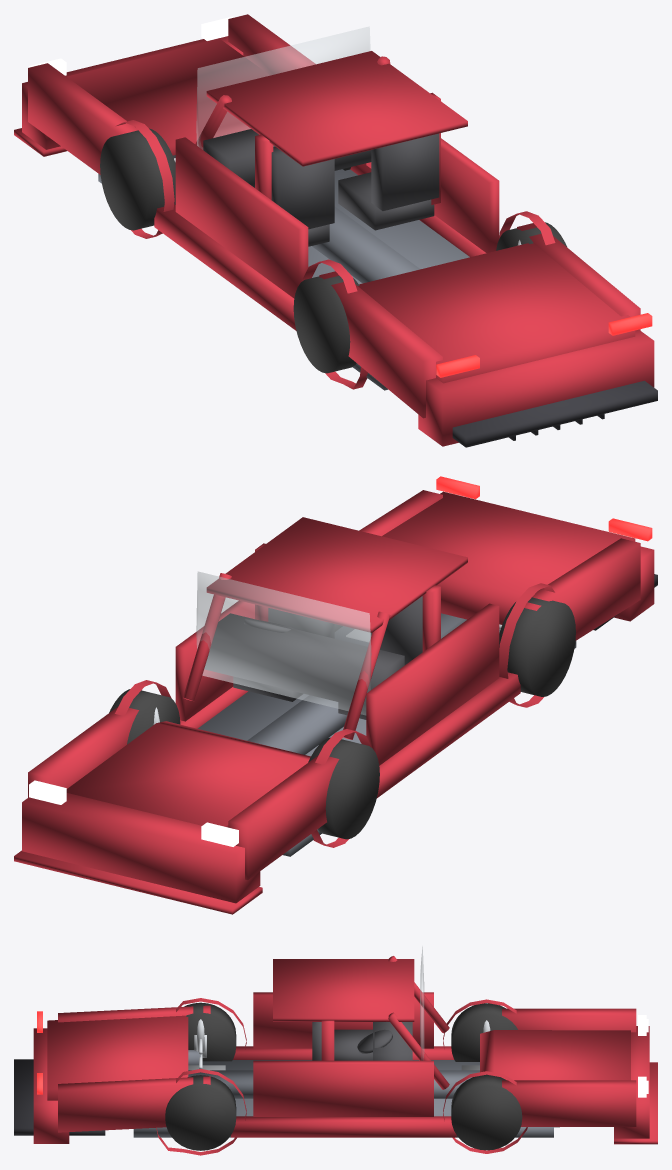
File: coupe_complete.glb
The picture shows the model from 3 angles, top to bottom: view 1: azimuth 30°, elevation 25°; view 2: azimuth 150°, elevation 25°; view 3: azimuth 270°, elevation 25°; orthographic projection. The views are drawn at different scales.
Visible parts, largest first — view 1: BODY_RearClip, BODY_Cabin, BODY_FrontClip, INTERIOR_Cockpit, CHASSIS_Main, GLASS_Windshield, WHEEL_FR, AERO_Diffuser, WHEEL_RR, WHEEL_RL, LIGHT_Taillamp_L, LIGHT_Taillamp_R; view 2: BODY_FrontClip, BODY_Cabin, BODY_RearClip, GLASS_Windshield, INTERIOR_Cockpit, CHASSIS_Main, WHEEL_RR, WHEEL_FR, WHEEL_FL, LIGHT_Headlamp_L, LIGHT_Headlamp_R, LIGHT_Taillamp_R (+1 smaller); view 3: BODY_Cabin, BODY_FrontClip, BODY_RearClip, WHEEL_FL, WHEEL_RL, CHASSIS_Main, INTERIOR_Cockpit, WHEEL_FR, WHEEL_RR, AERO_Diffuser, GLASS_Windshield, SUSP_RR.
Part boxes in pixels (x1=…): BODY_RearClip: x1=302, y1=211, x2=654, y2=446; BODY_Cabin: x1=154, y1=51, x2=499, y2=330; BODY_FrontClip: x1=14, y1=14, x2=315, y2=238; INTERIOR_Cockpit: x1=203, y1=129, x2=439, y2=246; CHASSIS_Main: x1=98, y1=155, x2=469, y2=390; GLASS_Windshield: x1=196, y1=26, x2=370, y2=149; WHEEL_FR: x1=100, y1=128, x2=175, y2=230; AERO_Diffuser: x1=452, y1=380, x2=657, y2=447; WHEEL_RR: x1=293, y1=275, x2=359, y2=373; WHEEL_RL: x1=496, y1=222, x2=566, y2=250; LIGHT_Taillamp_L: x1=608, y1=313, x2=652, y2=335; LIGHT_Taillamp_R: x1=436, y1=355, x2=479, y2=377; BODY_FrontClip: x1=14, y1=680, x2=371, y2=914; BODY_Cabin: x1=175, y1=517, x2=520, y2=798; BODY_RearClip: x1=359, y1=490, x2=654, y2=707; GLASS_Windshield: x1=196, y1=571, x2=371, y2=715; INTERIOR_Cockpit: x1=204, y1=596, x2=422, y2=719; CHASSIS_Main: x1=197, y1=613, x2=576, y2=856; WHEEL_RR: x1=499, y1=597, x2=575, y2=696; WHEEL_FR: x1=308, y1=737, x2=379, y2=839; WHEEL_FL: x1=109, y1=689, x2=180, y2=744; LIGHT_Headlamp_L: x1=29, y1=780, x2=66, y2=804; LIGHT_Headlamp_R: x1=201, y1=822, x2=238, y2=846; LIGHT_Taillamp_R: x1=608, y1=518, x2=652, y2=541; BODY_Cabin: x1=231, y1=956, x2=456, y2=1137; BODY_FrontClip: x1=443, y1=999, x2=657, y2=1153; BODY_RearClip: x1=33, y1=998, x2=246, y2=1155; WHEEL_FL: x1=451, y1=1074, x2=522, y2=1150; WHEEL_RL: x1=165, y1=1075, x2=236, y2=1150; CHASSIS_Main: x1=133, y1=1050, x2=559, y2=1137; INTERIOR_Cockpit: x1=312, y1=1022, x2=412, y2=1060; WHEEL_FR: x1=451, y1=1003, x2=517, y2=1061; WHEEL_RR: x1=184, y1=1002, x2=236, y2=1061; AERO_Diffuser: x1=14, y1=1059, x2=105, y2=1135; GLASS_Windshield: x1=420, y1=946, x2=424, y2=1060; SUSP_RR: x1=194, y1=1019, x2=206, y2=1068.
Size of the model in its own units: 1.9 by 1.52 by 6.17.
